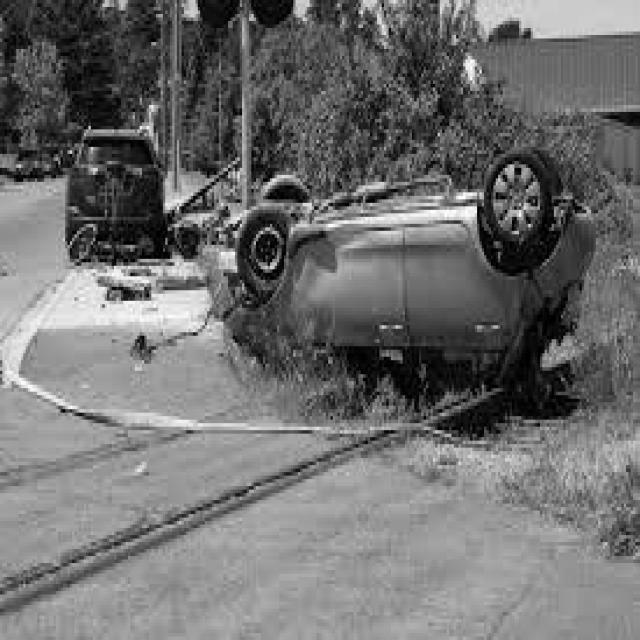accident: (230, 145, 595, 380)
vehicle: (65, 123, 167, 259), (14, 143, 43, 185), (41, 151, 55, 181)
